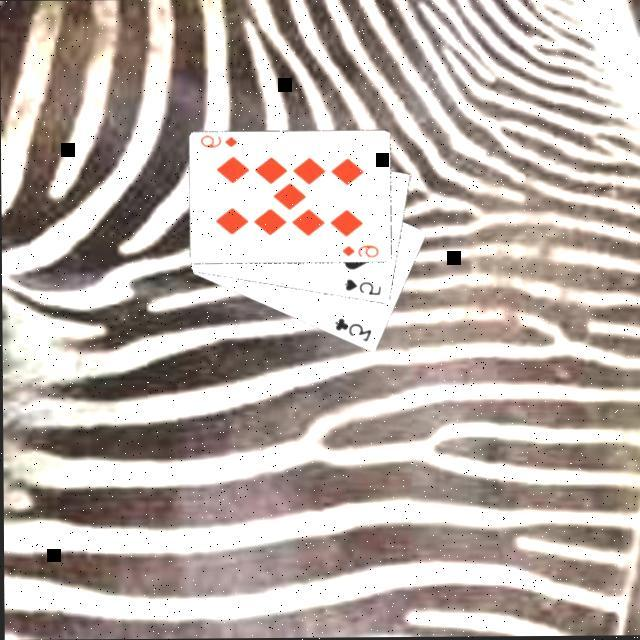3C: (332, 316, 377, 346)
5S: (343, 278, 385, 300)
9D: (200, 134, 242, 152), (340, 244, 382, 261)
